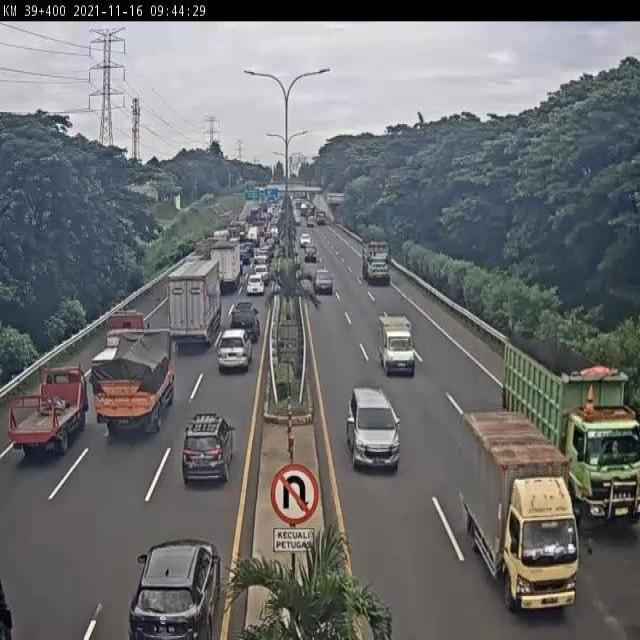car: (346, 386, 400, 471), (180, 416, 235, 489), (218, 329, 250, 372), (231, 302, 259, 342), (314, 268, 335, 295), (245, 276, 264, 296)
small truck: (1, 371, 83, 458), (84, 313, 145, 376), (377, 314, 416, 378)
truck-l-: (501, 334, 640, 518), (167, 262, 218, 346), (361, 235, 392, 288)
truck-m-: (459, 412, 579, 612), (90, 332, 173, 441), (210, 244, 239, 289)
